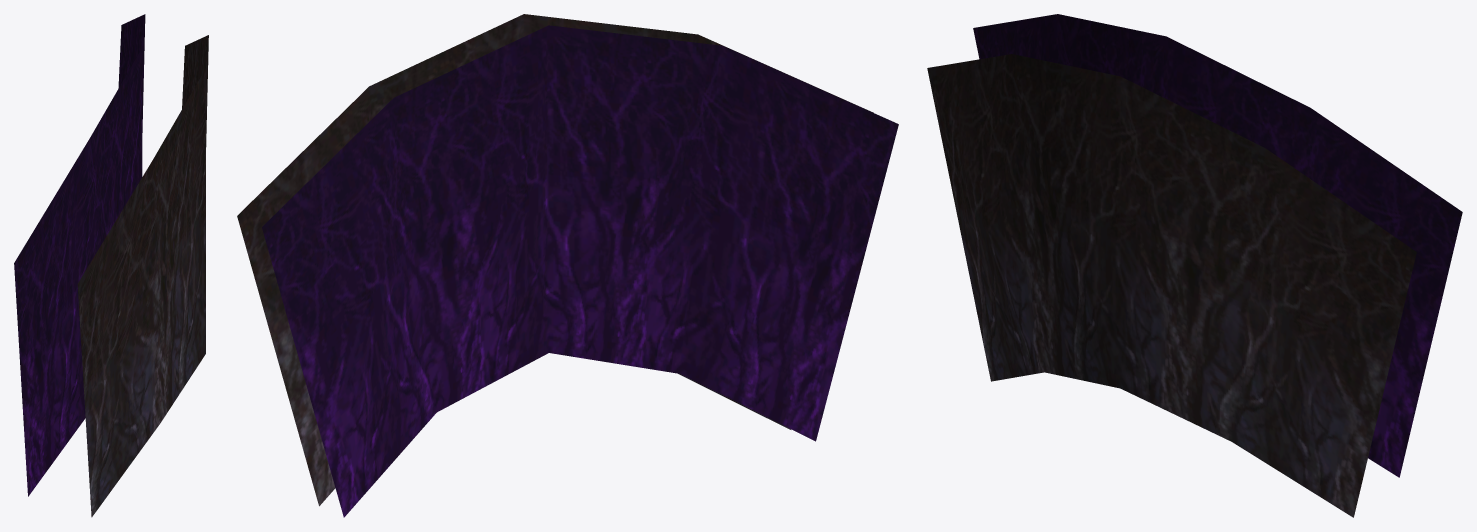
File: EKH_ENTRANCE_PS_EN_TREE_LINE049487.fbx
3 views of the same model, side by side, from view 1: azimuth 30°, elevation 25°; view 2: azimuth 150°, elevation 25°; view 3: azimuth 270°, elevation 25° (orthographic). The views are drawn at different scales.
Parts seen in each view (by area): view 1: EKH_ENTRANCE_PS_EN_TREE_LINE049487; view 2: EKH_ENTRANCE_PS_EN_TREE_LINE049487; view 3: EKH_ENTRANCE_PS_EN_TREE_LINE049487.
Part boxes in pixels (x1=…): EKH_ENTRANCE_PS_EN_TREE_LINE049487: x1=14, y1=14, x2=208, y2=517; EKH_ENTRANCE_PS_EN_TREE_LINE049487: x1=237, y1=14, x2=898, y2=517; EKH_ENTRANCE_PS_EN_TREE_LINE049487: x1=927, y1=14, x2=1462, y2=517.
Bounding box in the file's own units: 189768 × 186594 × 215353.
2 materials, 2 textured.
